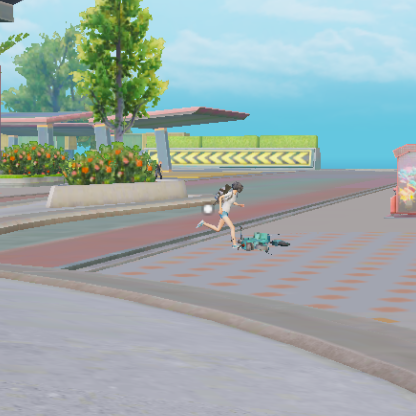ren: (219, 180, 244, 249), (156, 160, 163, 176)
tou: (230, 182, 244, 193), (158, 160, 163, 167)
